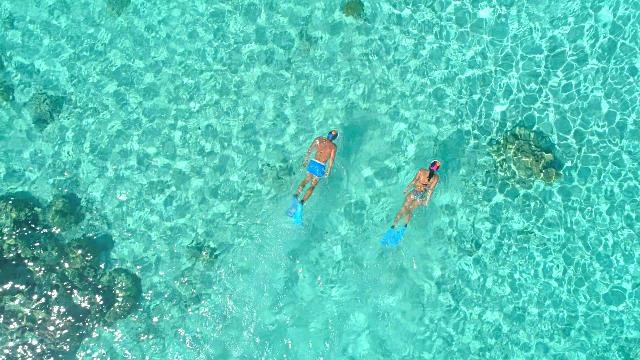human: (292, 130, 338, 216), (392, 157, 439, 234)
